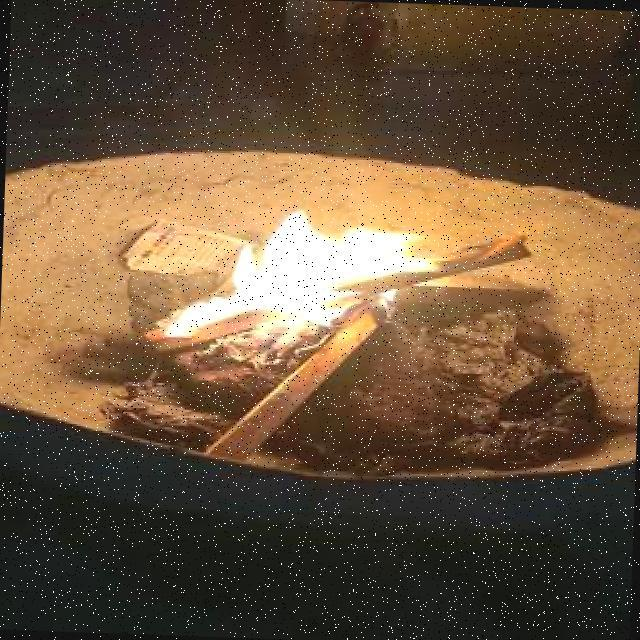Fire: (145, 198, 450, 356)
